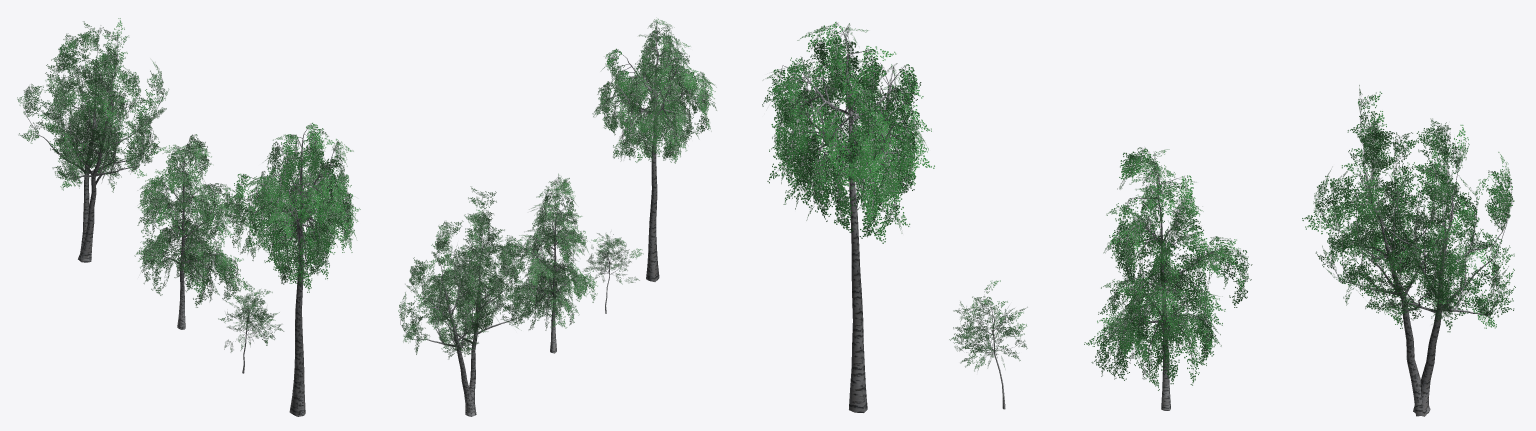
File: birch_group.glb
3 views of the same model, side by side, from view 1: azimuth 30°, elevation 25°; view 2: azimuth 150°, elevation 25°; view 3: azimuth 270°, elevation 25° (orthographic). The views are drawn at different scales.
Parts seen in each view (by area): view 1: birch-1_leaves_0, birch-1_bark_0; view 2: birch-1_leaves_0, birch-1_bark_0; view 3: birch-1_leaves_0, birch-1_bark_0.
Boxes of the visible parts, box(x1,y1,x2,y2) form: birch-1_leaves_0: box(17, 18, 360, 352); birch-1_bark_0: box(25, 35, 349, 416); birch-1_leaves_0: box(398, 18, 716, 359); birch-1_bark_0: box(400, 21, 706, 416); birch-1_leaves_0: box(762, 22, 1515, 390); birch-1_bark_0: box(778, 21, 1512, 416).
Size of the model in its own units: 701 by 1527 by 2650.
2 materials, 2 textured.
